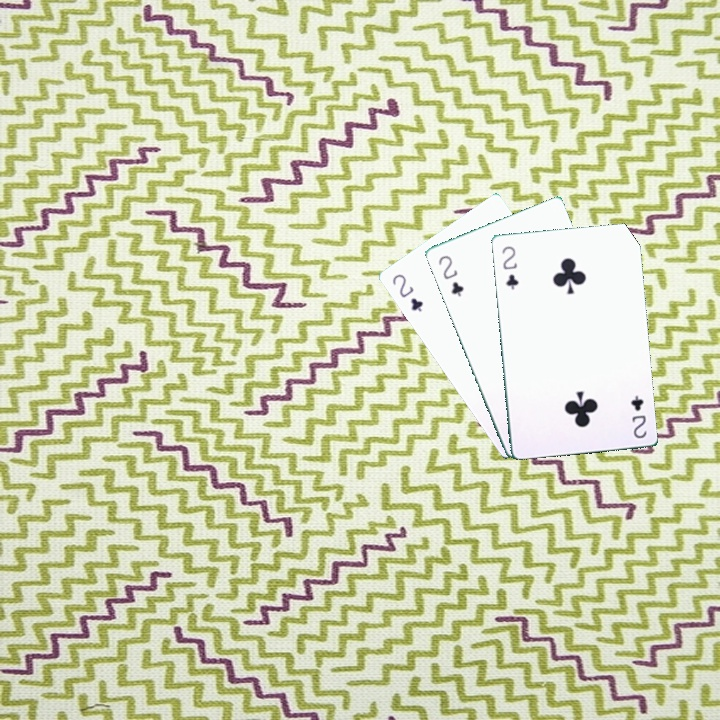2c: (388, 270, 426, 315), (434, 251, 466, 299), (498, 242, 521, 292), (627, 391, 649, 441)
